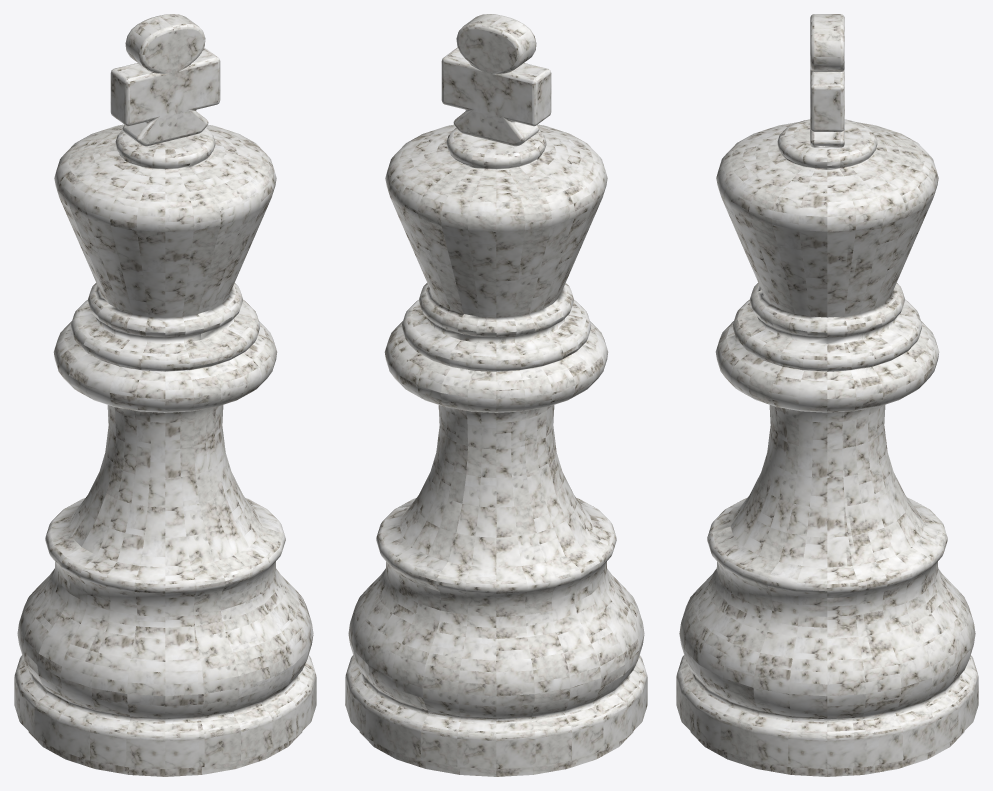
Rendered from king.fbx.
The picture shows the model from 3 angles, left to right: view 1: azimuth 30°, elevation 25°; view 2: azimuth 150°, elevation 25°; view 3: azimuth 270°, elevation 25°; orthographic projection.
Parts seen in each view (by area): view 1: Model; view 2: Model; view 3: Model.
Boxes of the visible parts, x1,y1,x2,y2 form: Model: [14, 14, 316, 776]; Model: [345, 14, 647, 776]; Model: [676, 14, 978, 776].
Size of the model in its own units: 14.89 by 37.85 by 14.89.
Materials: 1 (1 with a texture image).
